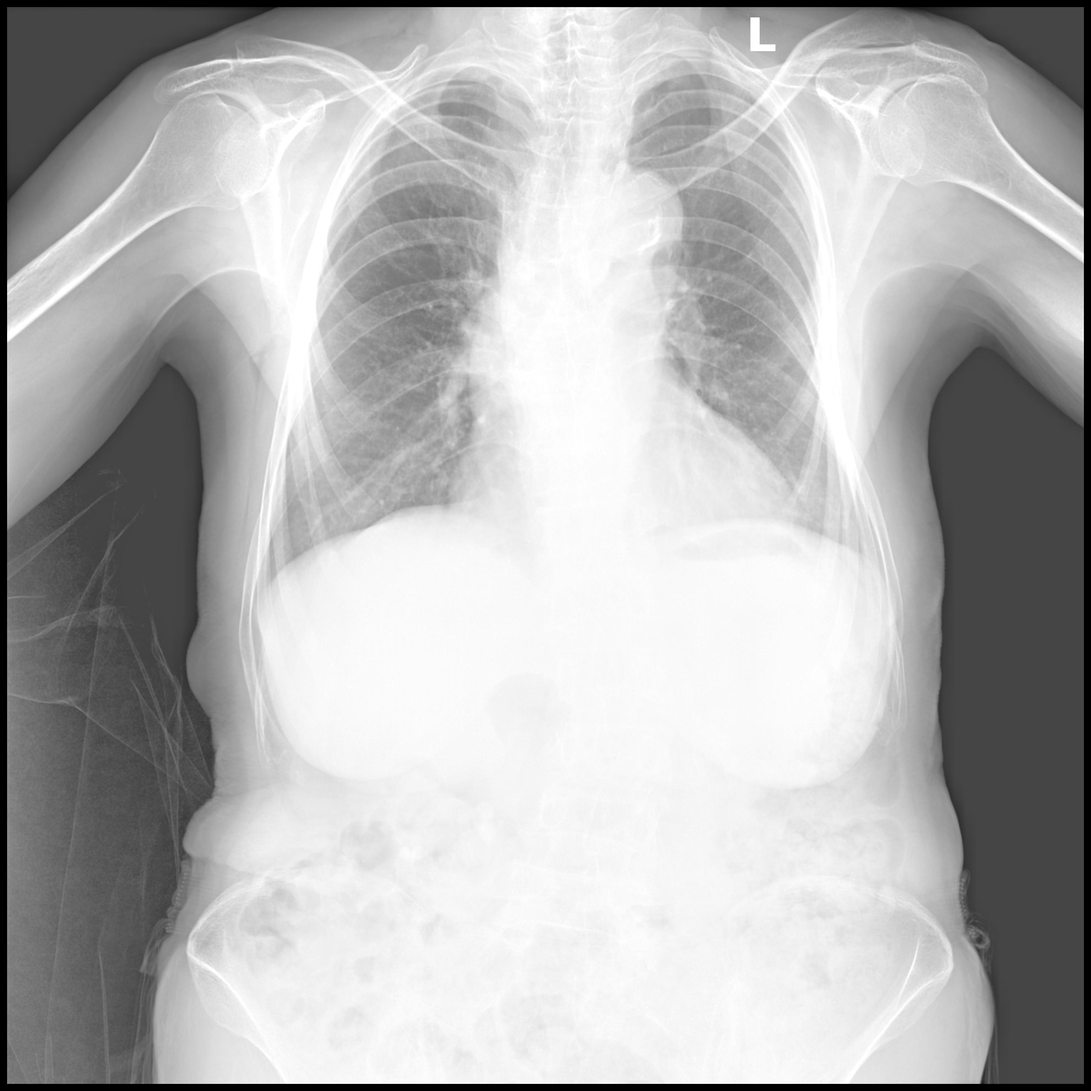Aortic enlargement: (593, 171, 687, 281)
Cardiomegaly: (449, 448, 802, 547)
